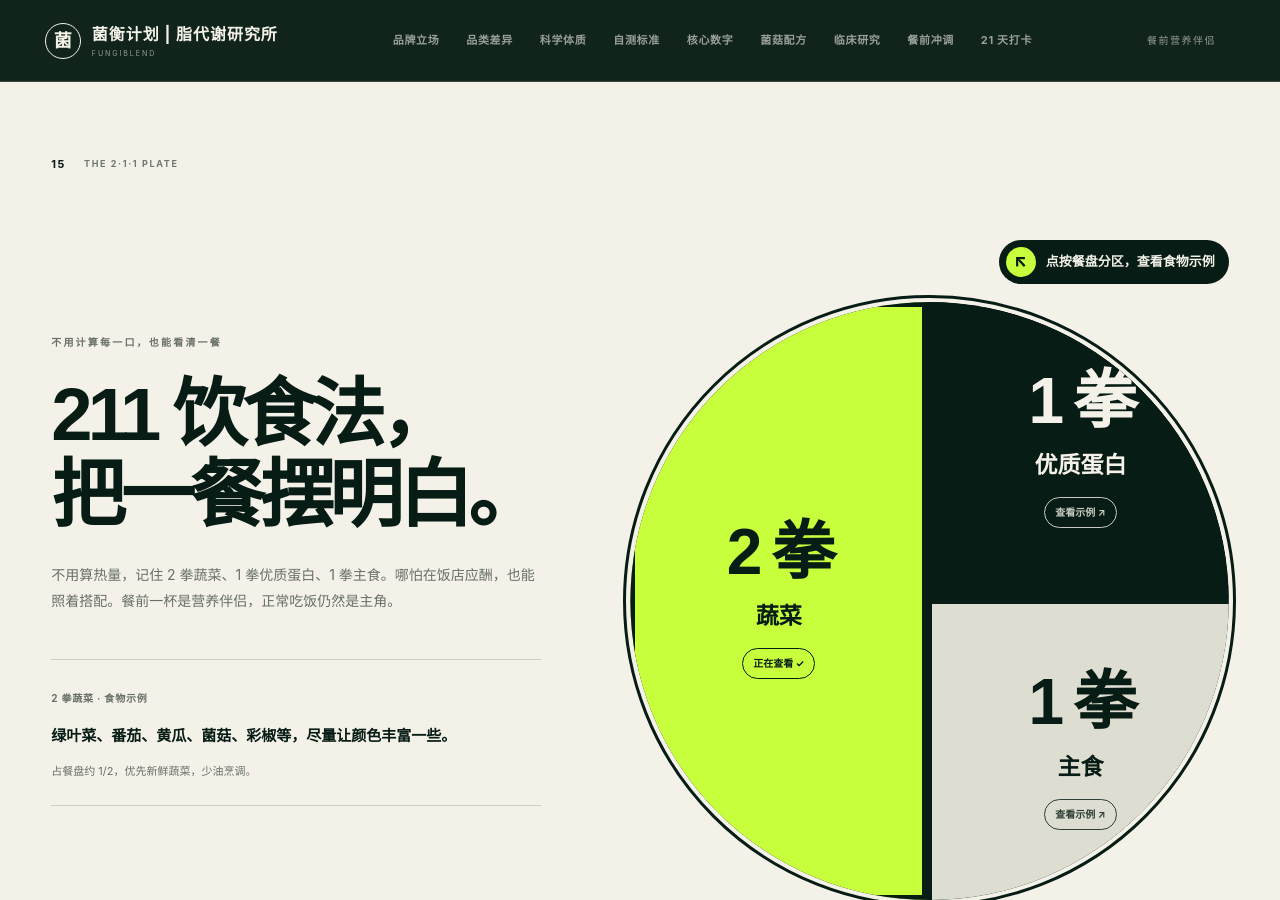
Test: v1.4 science, plate and personal records › makes plate sections visibly clickable and shows the active example
This screenshot has width=1280, height=900.
(page scrolled)
Expected: the text "点按餐盘分区，查看食物示例" is shown, [1046,253,1215,269]
What coordinates should you click on to do the following:
click the tab named "1 拳优质蛋白"
I would click on:
 (1080, 450)
Its box is [932,302,1229,599].
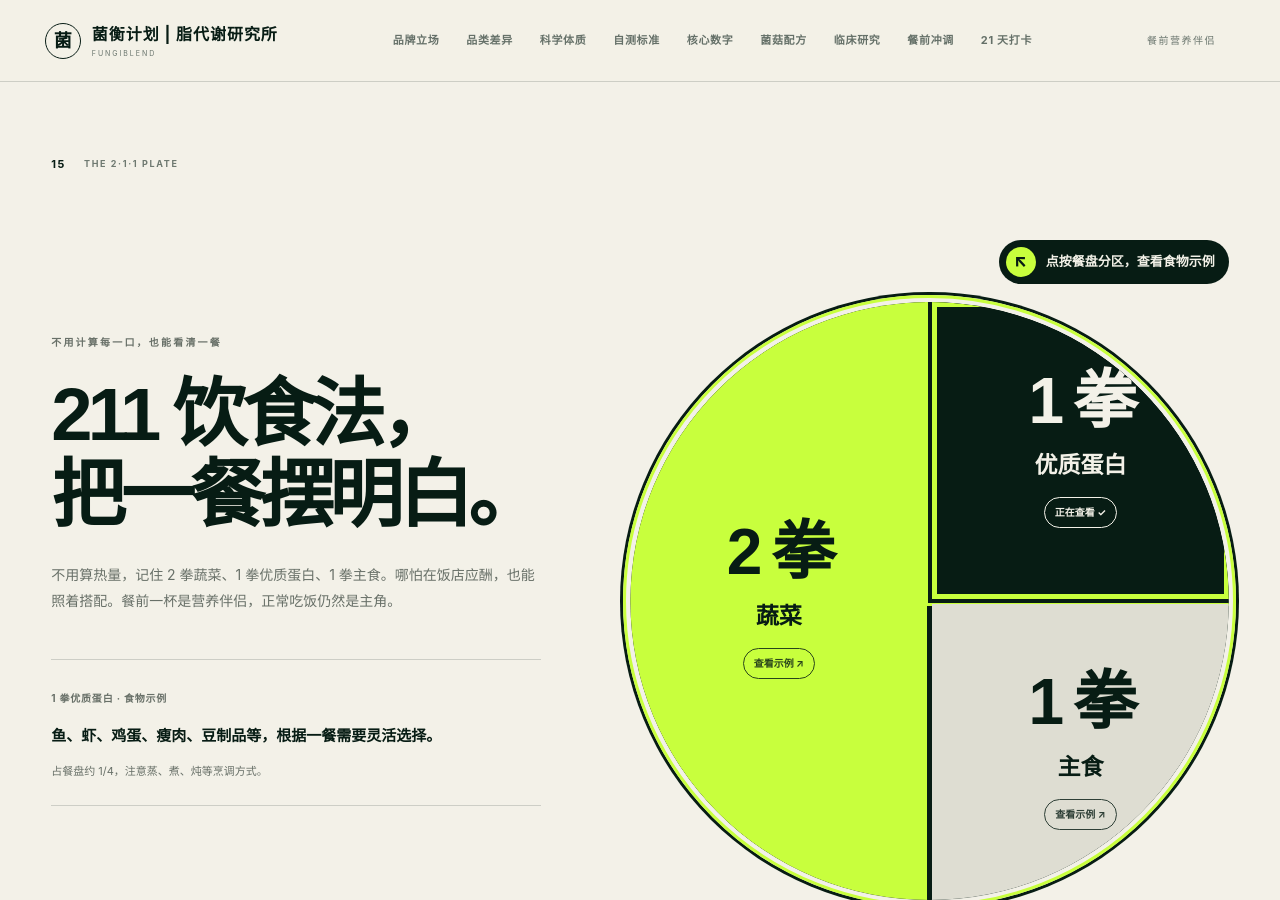
Expected: the tab named "1 拳优质蛋白" shows "正在查看", [932,302,1229,599]
Expected: the panel shows "鱼、虾、鸡蛋、瘦肉、豆制品", [51,726,441,745]
